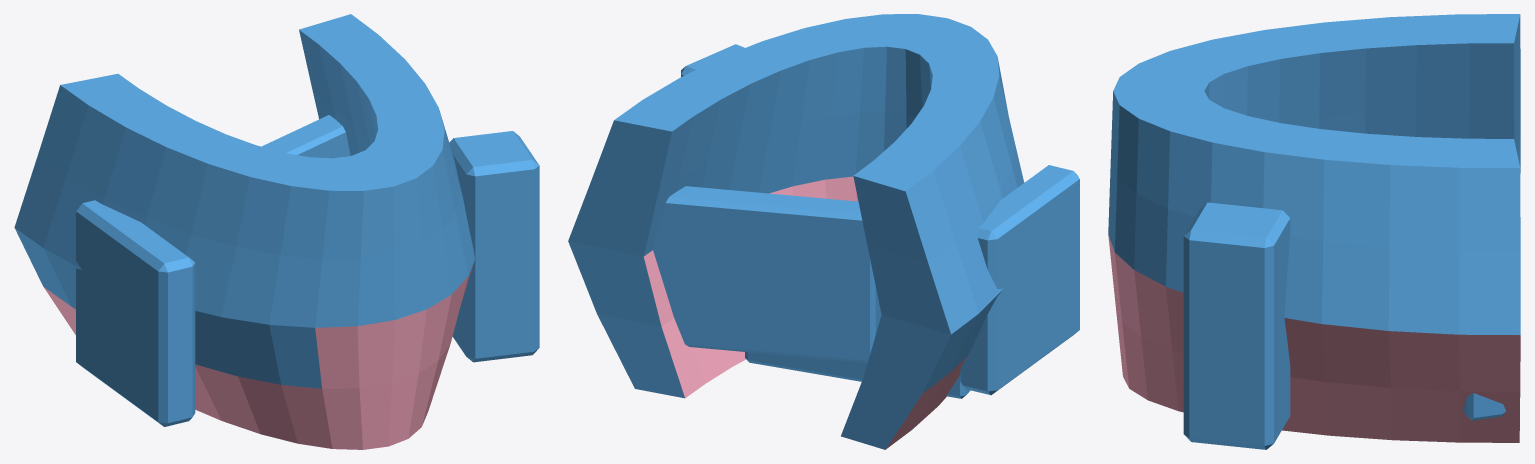
The model's file is right_shoulder.glb.
3 views of the same model, side by side, from view 1: azimuth 30°, elevation 25°; view 2: azimuth 150°, elevation 25°; view 3: azimuth 270°, elevation 25° (orthographic). The views are drawn at different scales.
Visible parts, largest first — view 1: armor_right_shoulder_v001; view 2: armor_right_shoulder_v001; view 3: armor_right_shoulder_v001.
Part boxes in pixels (<box>): armor_right_shoulder_v001: <box>14,14,539,449</box>; armor_right_shoulder_v001: <box>568,14,1079,449</box>; armor_right_shoulder_v001: <box>1108,14,1520,449</box>.
Size of the model in its own units: 0.188 by 0.122 by 0.1596.
